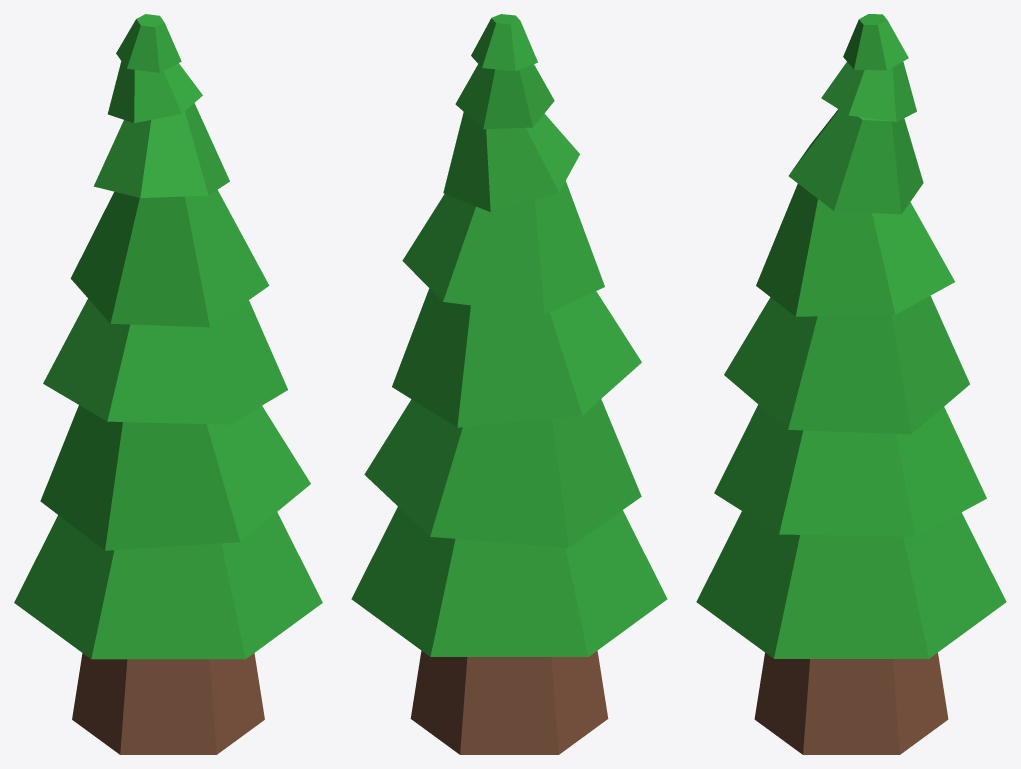
Rendered from Tree3.fbx.
3 views of the same model, side by side, from view 1: azimuth 30°, elevation 25°; view 2: azimuth 150°, elevation 25°; view 3: azimuth 270°, elevation 25° (orthographic). The views are drawn at different scales.
Parts seen in each view (by area): view 1: Cylinder.004; view 2: Cylinder.004; view 3: Cylinder.004.
Part boxes in pixels (x1,y1,x2,y2): Cylinder.004: (14,14,322,754); Cylinder.004: (351,14,667,754); Cylinder.004: (696,14,1006,754).
Size of the model in its own units: 277 by 793 by 320.
